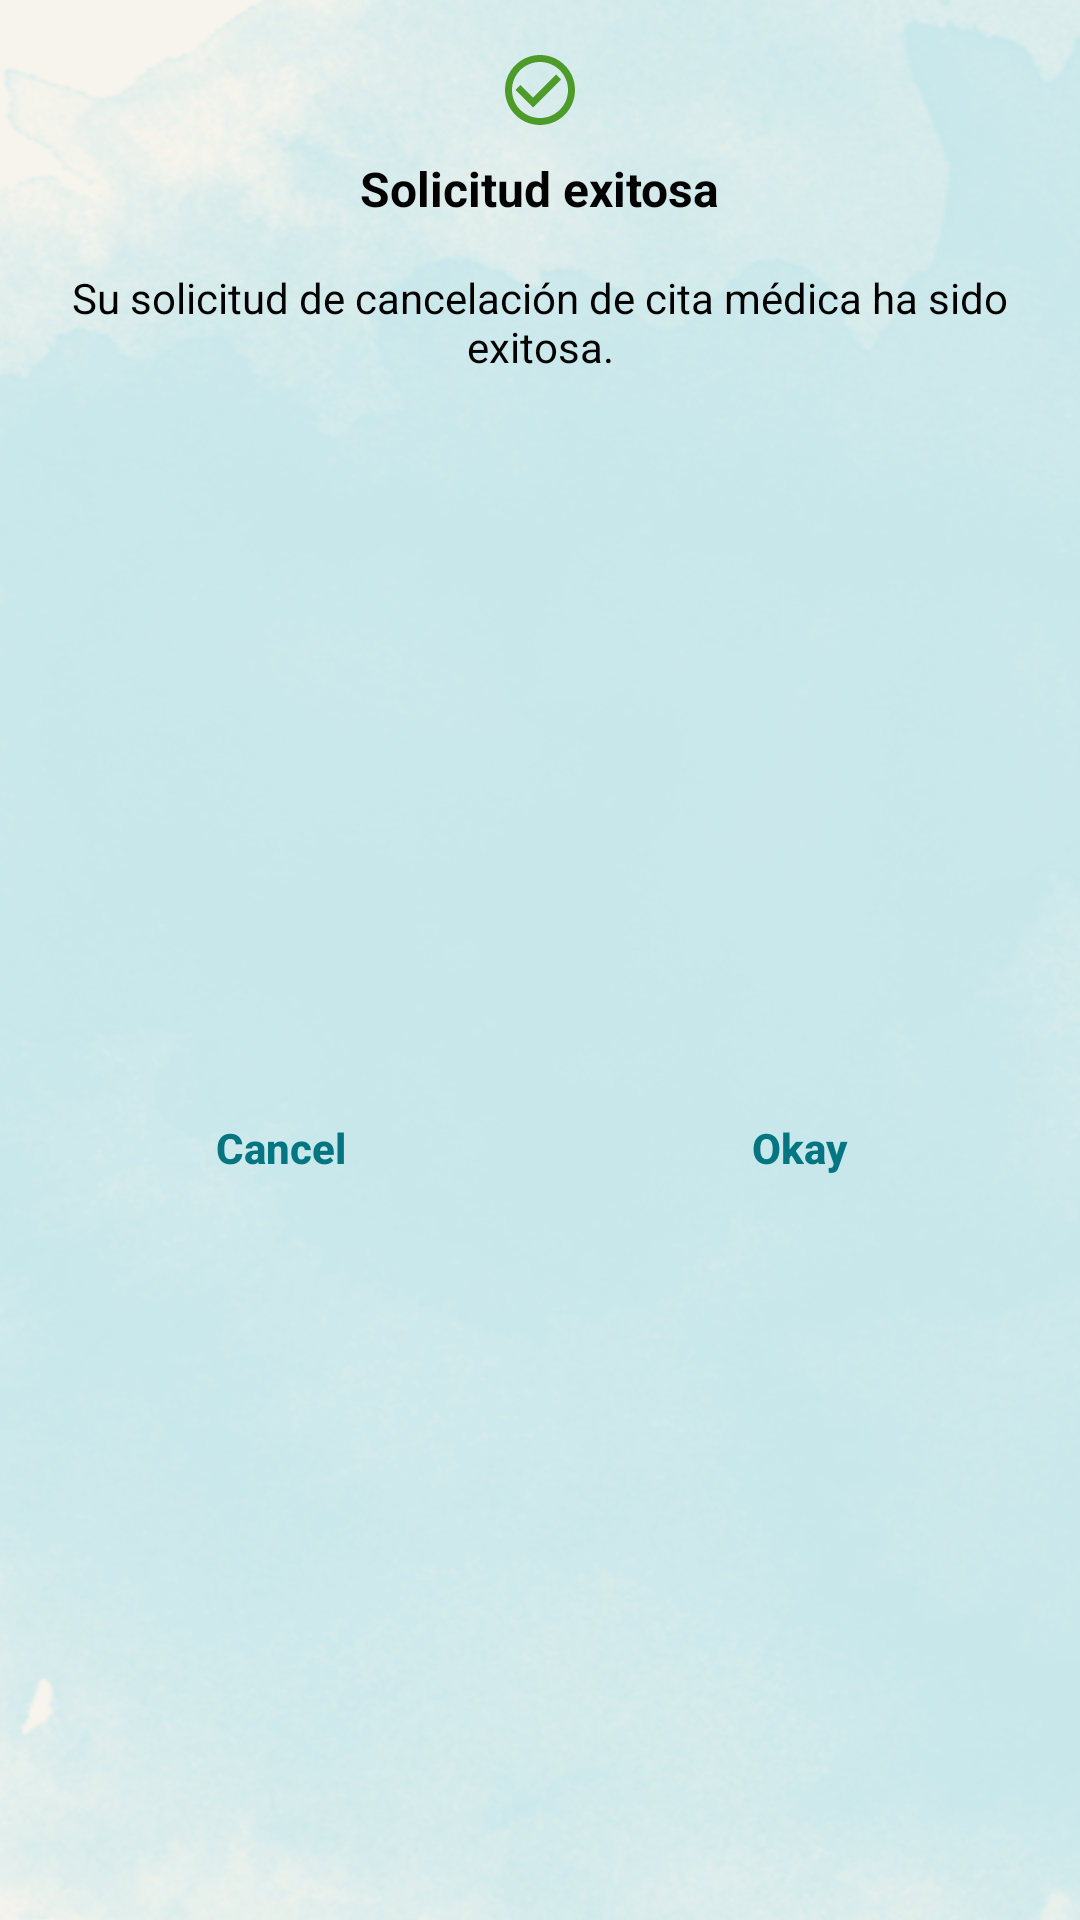

Screen size 1080px×1920px. Icon name, then its box in pixels as (left=x1, top=y1, right=x2, bottom=y2):
success: (left=505, top=55, right=575, bottom=125)
